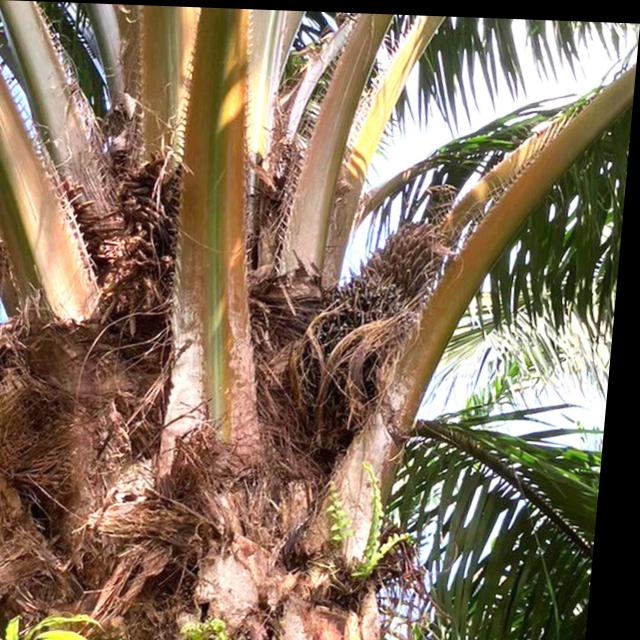unripe: (300, 277, 408, 422)
